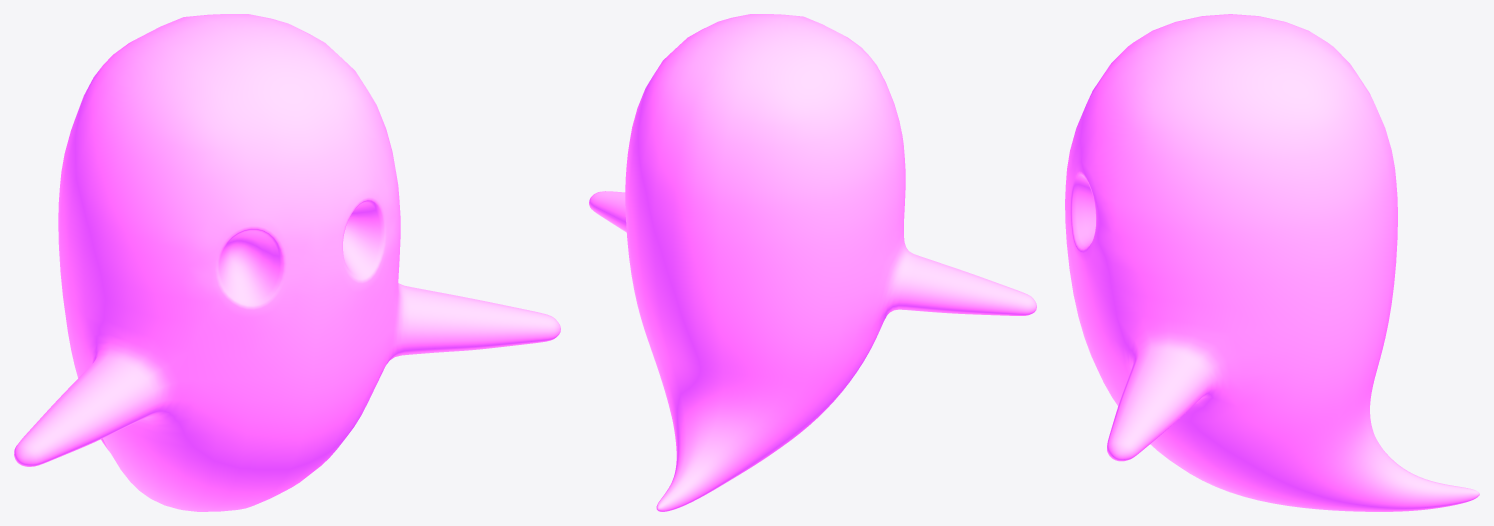
File: Ghost.fbx
The picture shows the model from 3 angles, left to right: view 1: azimuth 30°, elevation 25°; view 2: azimuth 150°, elevation 25°; view 3: azimuth 270°, elevation 25°; orthographic projection. The views are drawn at different scales.
Visible parts, largest first — view 1: Ghost; view 2: Ghost; view 3: Ghost.
Boxes of the visible parts, x1=… form: Ghost: x1=14, y1=14, x2=560, y2=511; Ghost: x1=589, y1=14, x2=1036, y2=511; Ghost: x1=1065, y1=14, x2=1479, y2=511.
Bounding box in the file's own units: 1 × 0.8949 × 0.7021.
